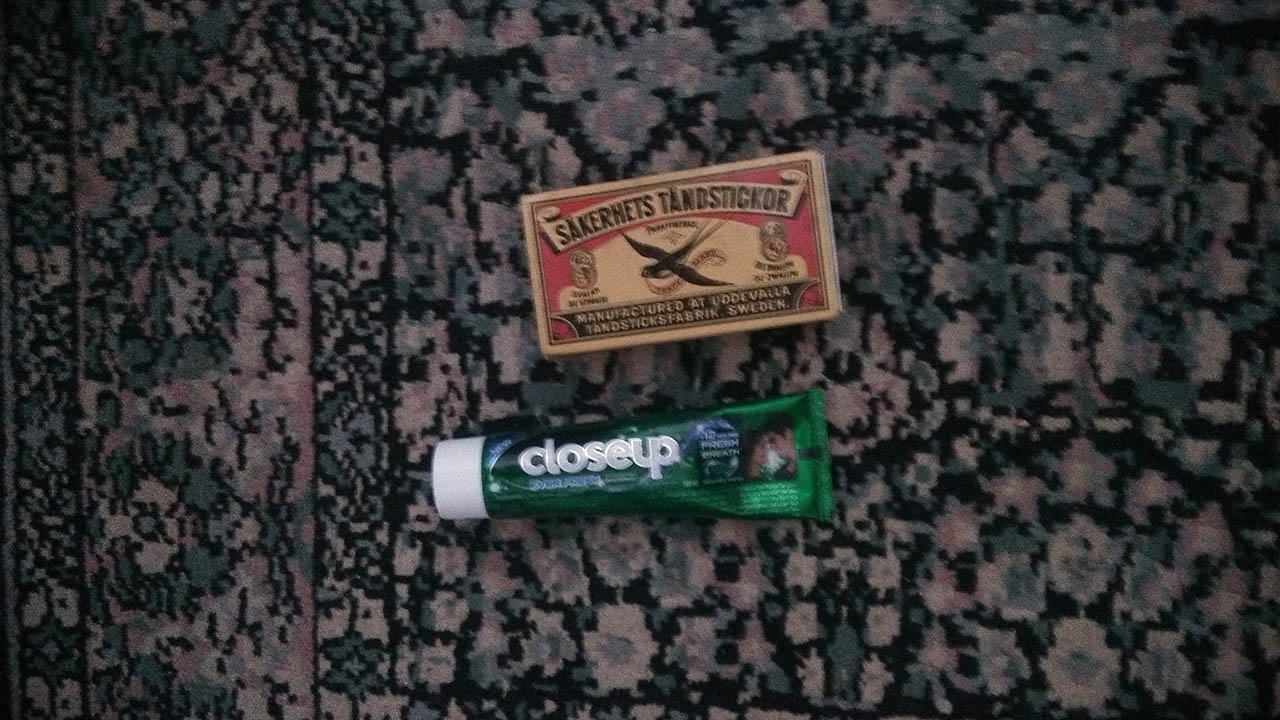Toothpaste-Closeup 3.04$: (417, 385, 846, 547)
match-sticks .90$: (511, 137, 856, 348)
